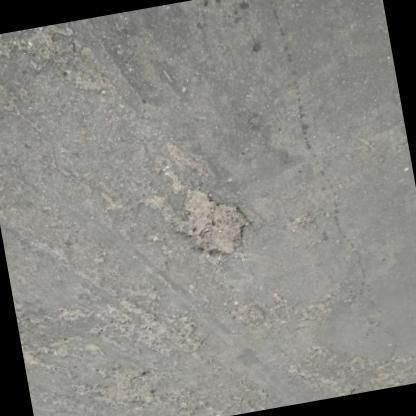pothole: (184, 187, 248, 257)
